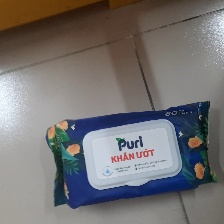Puri Xanh: (44, 98, 219, 210)
